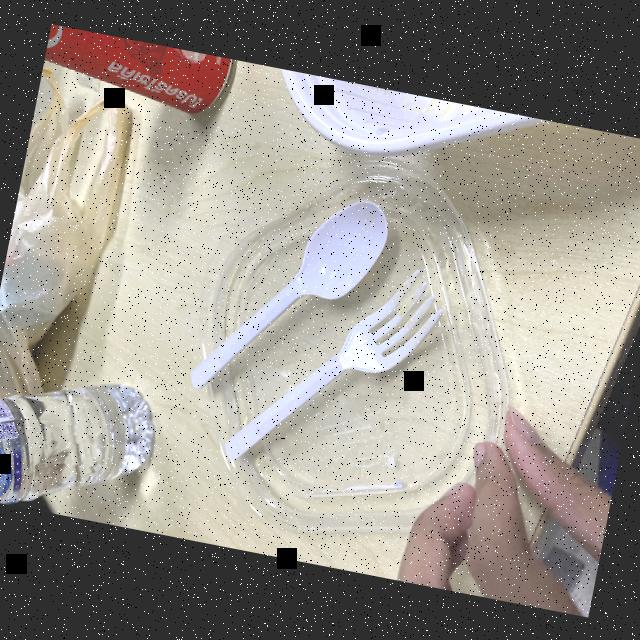plastic_spoon: (218, 228, 467, 502), (177, 163, 403, 439)
